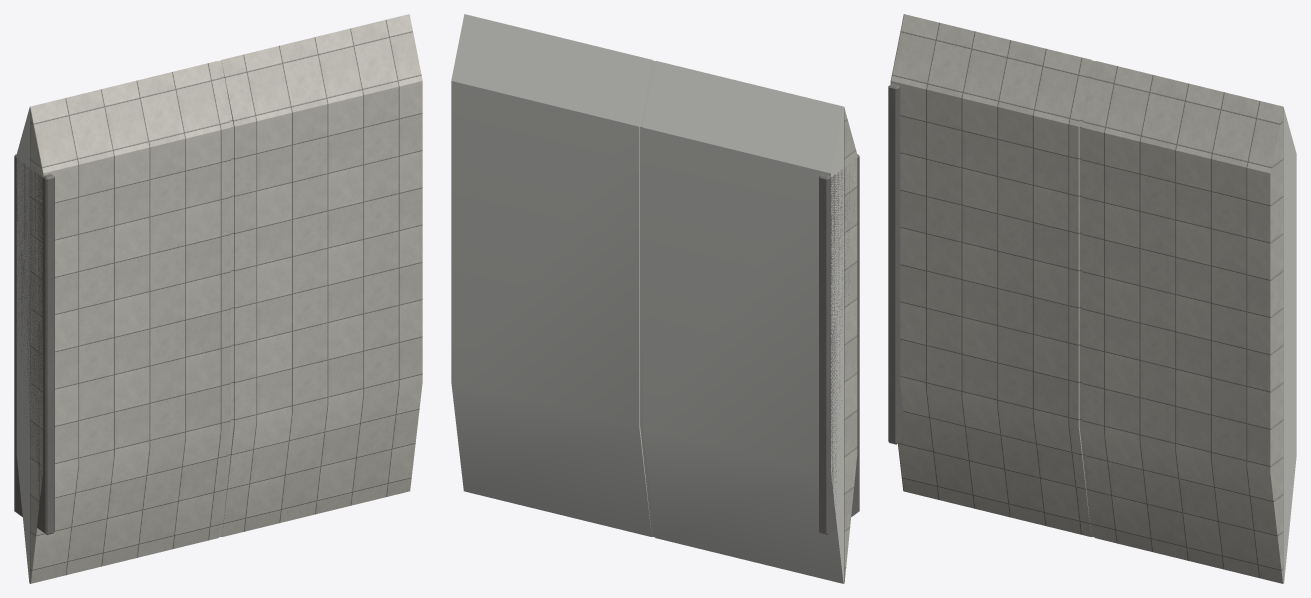
Rendered from ax_aero_20_wgc_wing_connector_m.glb.
3 views of the same model, side by side, from view 1: azimuth 30°, elevation 25°; view 2: azimuth 150°, elevation 25°; view 3: azimuth 330°, elevation 25° (orthographic).
Parts seen in each view (by area): view 1: wing_top, root_flange, wing_underside; view 2: wing_underside, root_flange, wing_top; view 3: wing_top, wing_underside, root_flange.
Boxes of the visible parts, bbox=[...] form: wing_top: bbox=[30, 14, 422, 583]; root_flange: bbox=[14, 154, 54, 534]; wing_underside: bbox=[16, 107, 29, 583]; wing_underside: bbox=[451, 14, 843, 583]; root_flange: bbox=[819, 154, 859, 534]; wing_top: bbox=[844, 107, 857, 583]; wing_top: bbox=[890, 14, 1283, 583]; wing_underside: bbox=[1283, 107, 1296, 582]; root_flange: bbox=[888, 83, 906, 444].
Bounding box in the file's own units: 1.6 × 1.92 × 0.24.
3 materials, 2 textured.
